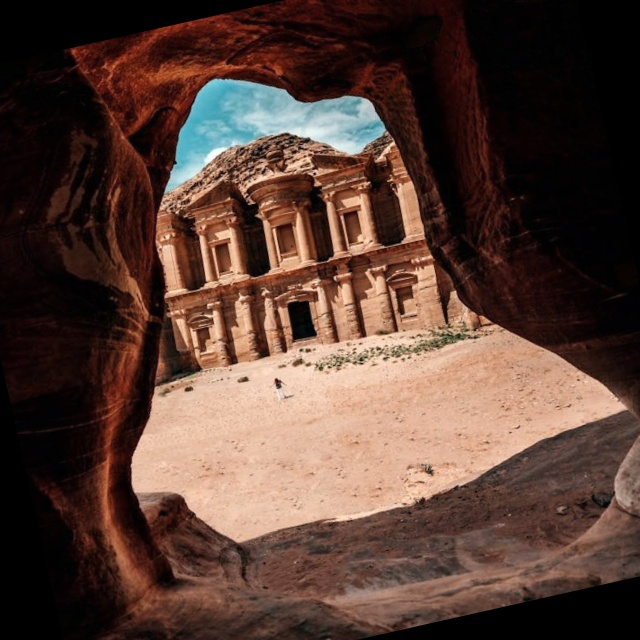oil_spill: (467, 0, 640, 331), (0, 0, 273, 124), (0, 368, 104, 640)
turbid_water: (48, 0, 640, 640), (13, 13, 627, 627)
